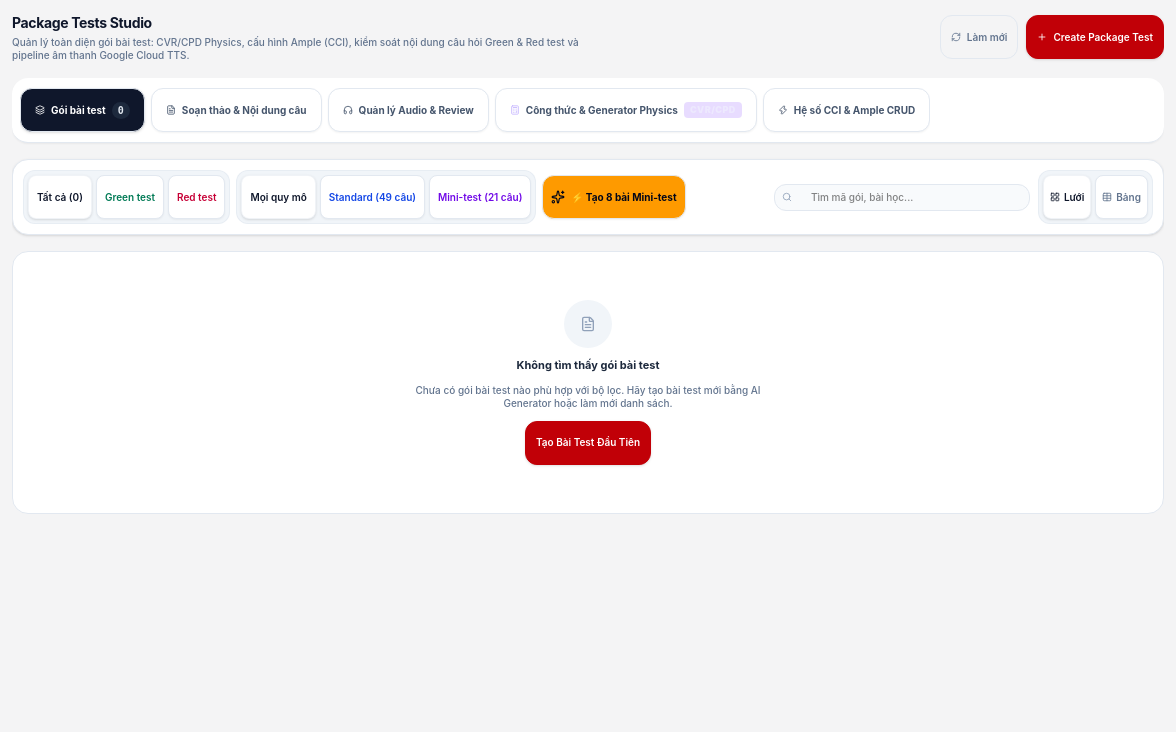
AdminPackageTestsPage › switches between Studio tabs (Gói bài test, Soạn thảo, Audio, CCI)
The width and height of the screenshot is (1176, 732).
Note: Switch to Soạn thảo & Nội dung câu
What coordinates should you click on to do the following:
click the button "Soạn thảo & Nội dung câu"
I would click on:
 (236, 110)
Its box is [151,88,322,132].
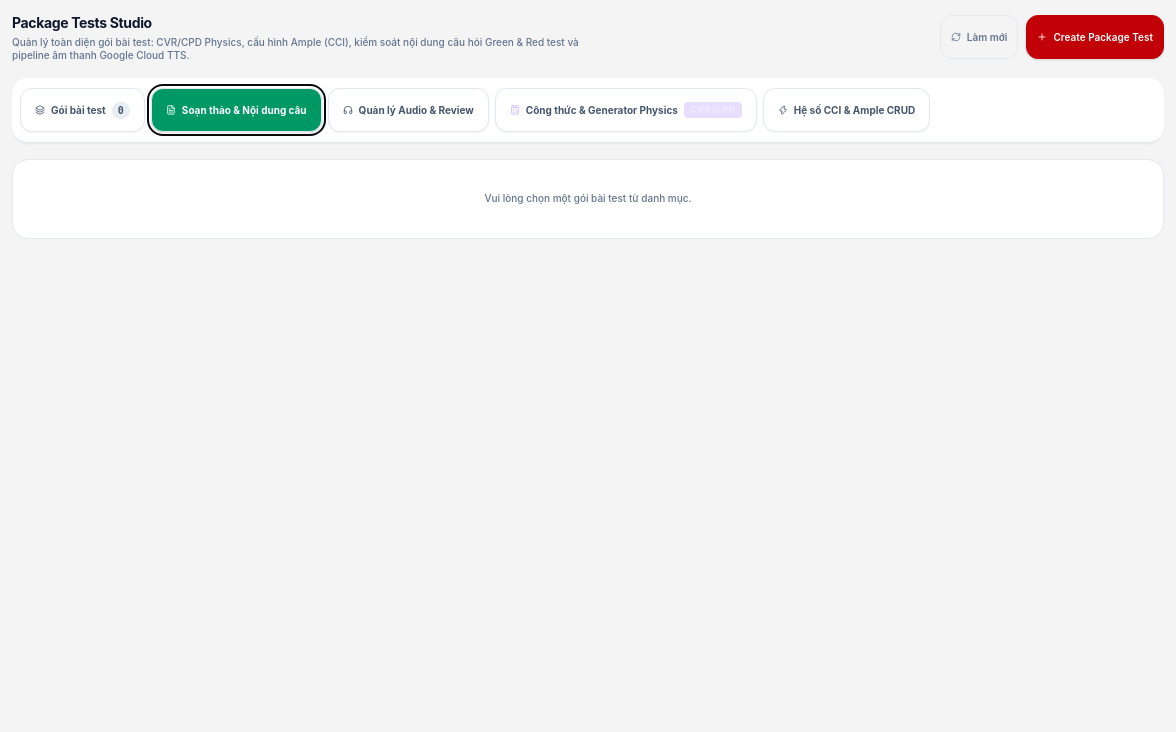
Result: the text "Vui lòng chọn một gói bài test từ danh mục." is shown at [12,159,1164,239]
Note: Switch to Quản lý Audio & Review
What coordinates should you click on to do the following:
click the button "Quản lý Audio & Review"
I would click on:
 (408, 110)
Its box is [328,88,489,132].
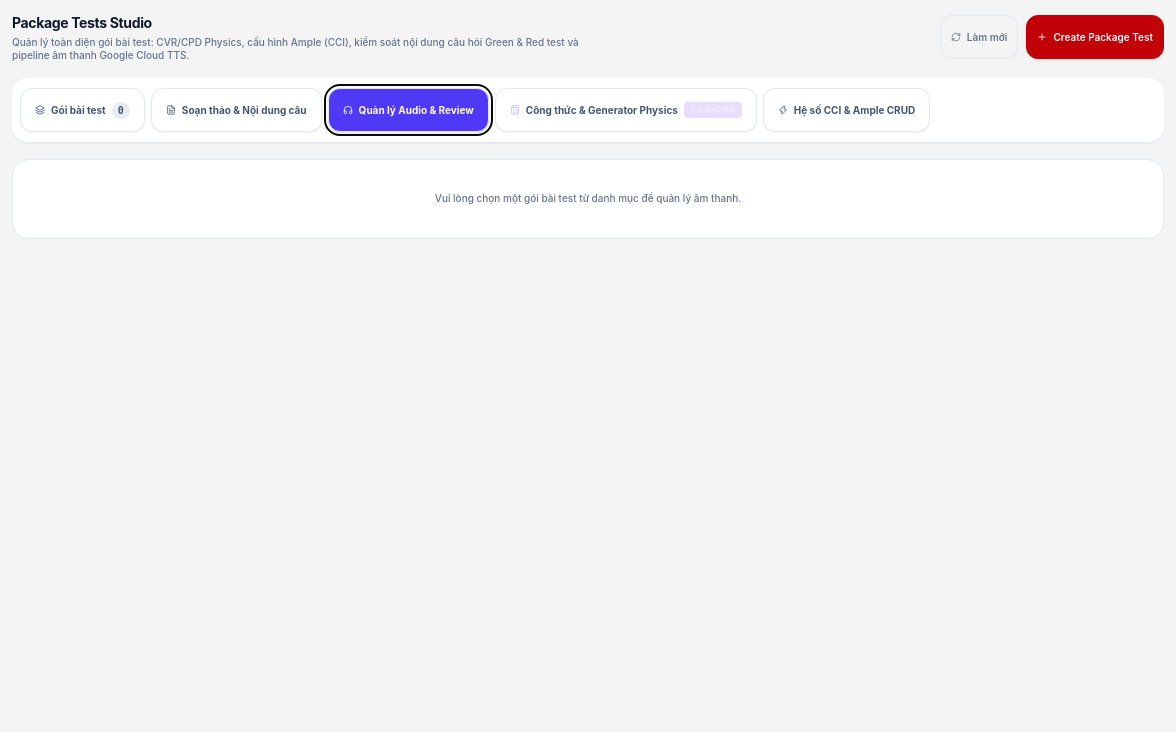
Result: the text "Vui lòng chọn một gói bài test từ danh mục để quản lý âm thanh" is shown at [435,192,741,204]
Note: Switch to Hệ số CCI & Ample CRUD
What coordinates should you click on to do the following:
click the button "Hệ số CCI & Ample CRUD"
I would click on:
 (846, 110)
Its box is [763,88,930,132].
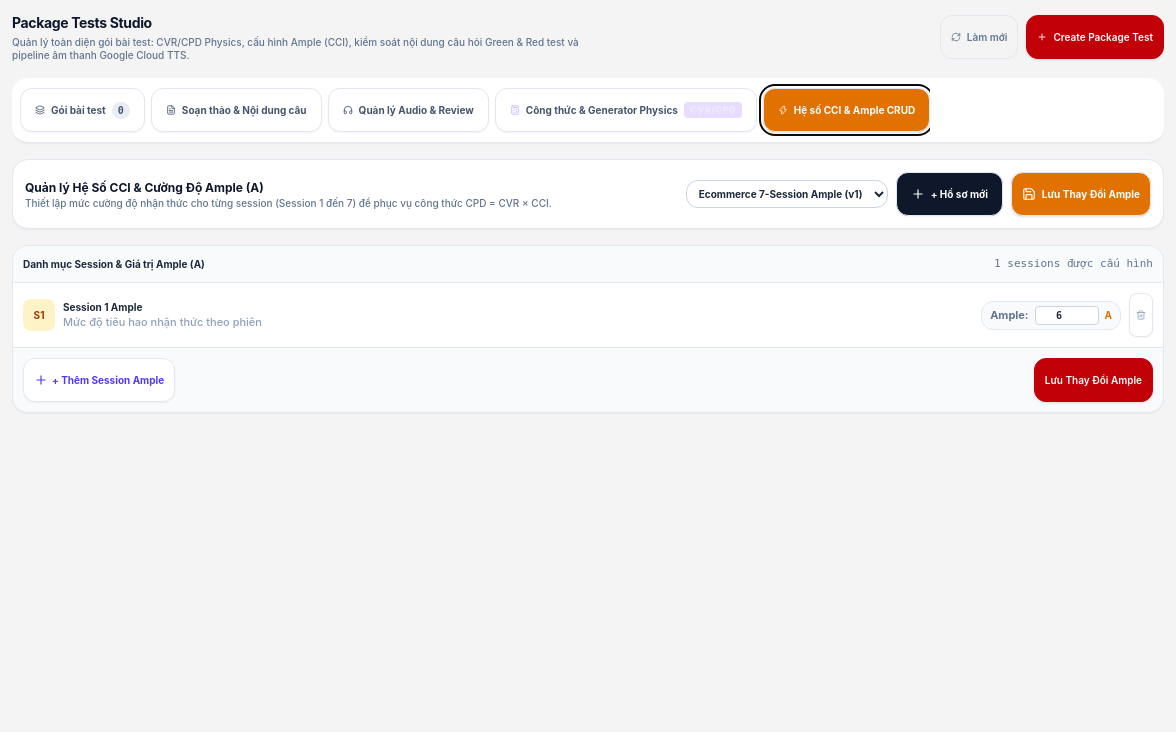
Result: the heading "Quản lý Hệ Số CCI & Cường Độ Ample (A)" is shown at [25,180,264,195]
Result: the button "+ Hồ sơ mới" is shown at [896,172,1003,216]
